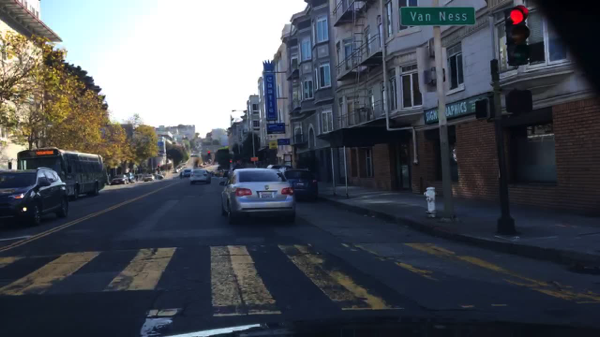bus: (16, 147, 108, 200)
car: (218, 167, 297, 226), (0, 164, 71, 229), (278, 166, 320, 202), (188, 169, 213, 185), (110, 173, 131, 186), (222, 166, 236, 179), (266, 164, 293, 170), (124, 172, 137, 184), (142, 173, 157, 183), (179, 169, 191, 178), (213, 170, 225, 178), (177, 164, 187, 169), (172, 168, 180, 174)
person: (157, 174, 165, 181)
traffic light: (503, 4, 531, 66), (503, 88, 534, 115), (473, 98, 488, 120), (228, 158, 233, 165), (206, 149, 210, 156)
traffic sign: (398, 7, 476, 27), (250, 156, 259, 162)
